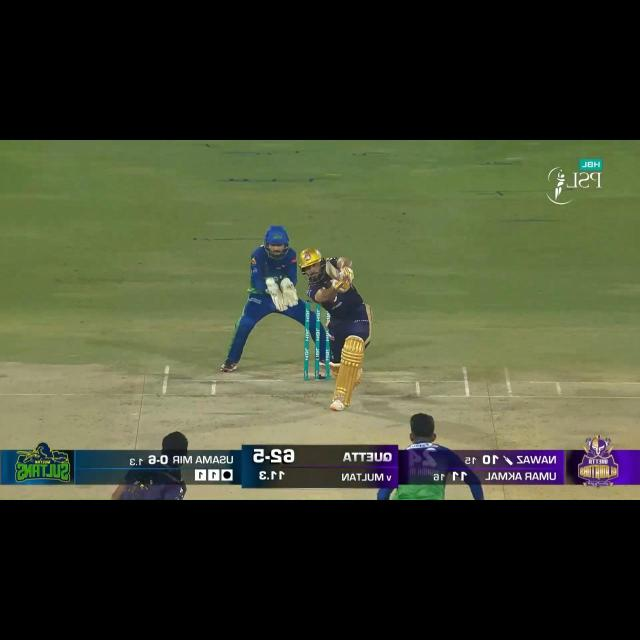bat: (324, 262, 341, 281)
toe: (324, 262, 334, 276)
